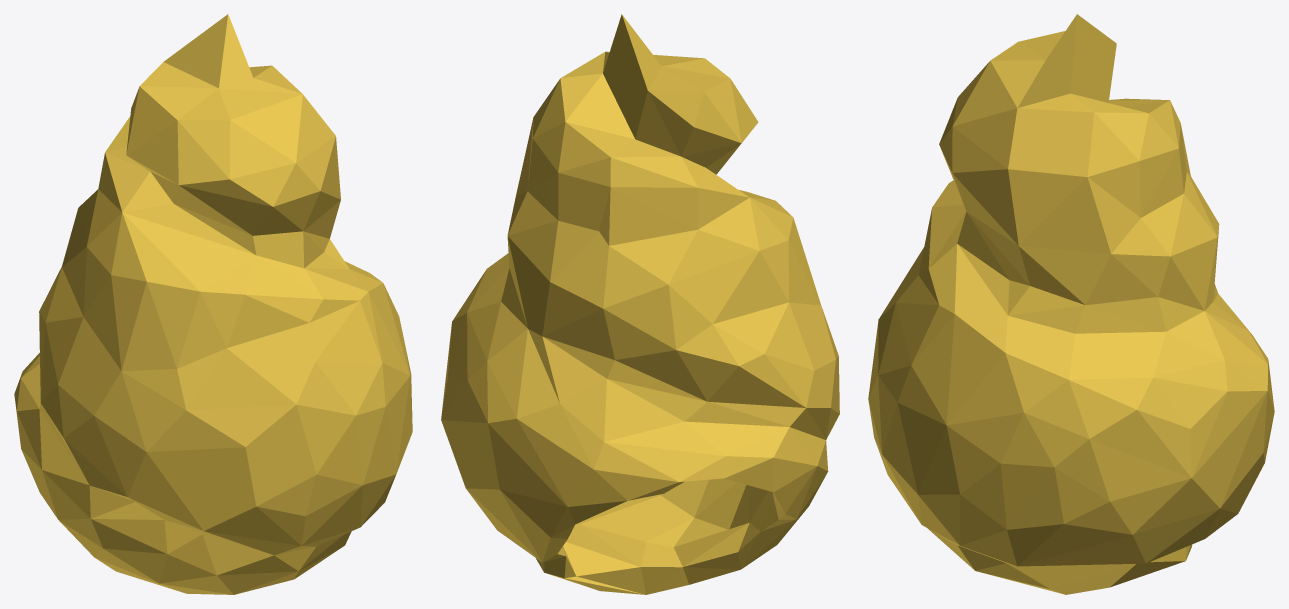
The model's file is ConeShellYellow.fbx.
The picture shows the model from 3 angles, left to right: view 1: azimuth 30°, elevation 25°; view 2: azimuth 150°, elevation 25°; view 3: azimuth 270°, elevation 25°; orthographic projection. The views are drawn at different scales.
Visible parts, largest first — view 1: Icosphere; view 2: Icosphere; view 3: Icosphere.
Part boxes in pixels (bbox=[...]): Icosphere: bbox=[14, 14, 412, 594]; Icosphere: bbox=[441, 14, 839, 594]; Icosphere: bbox=[868, 14, 1274, 594].
Size of the model in its own units: 182 by 278 by 180.
